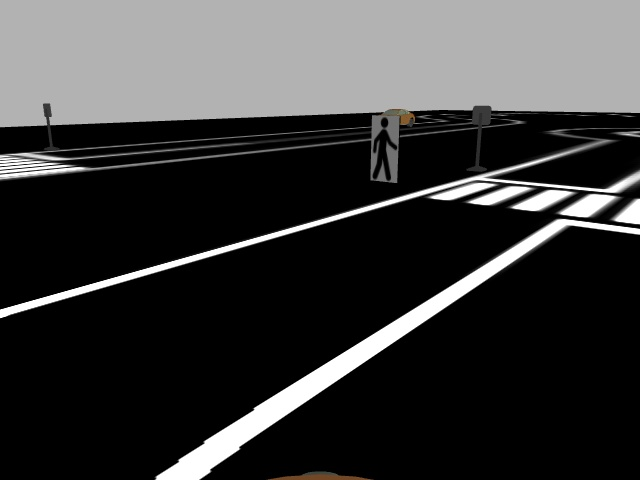pedestrian: (370, 112, 400, 184)
